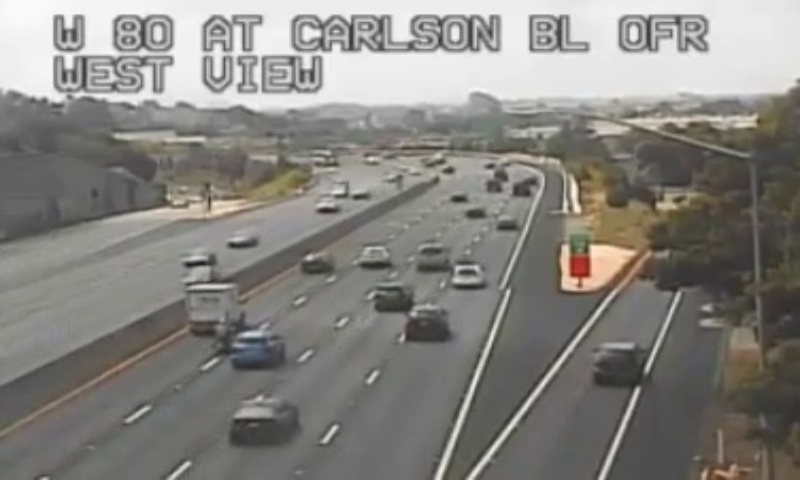car: (230, 402, 294, 442), (591, 342, 640, 386), (227, 330, 282, 368), (404, 304, 448, 341), (372, 281, 412, 310), (414, 241, 448, 270), (448, 263, 480, 285), (357, 245, 389, 265)
motorcycle: (210, 315, 231, 353)
small-truck: (185, 281, 244, 330)
